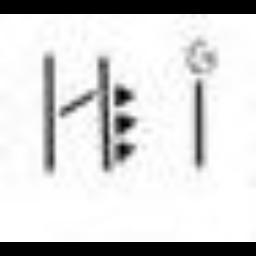h: (30, 38, 114, 186)
i: (177, 76, 217, 168)
